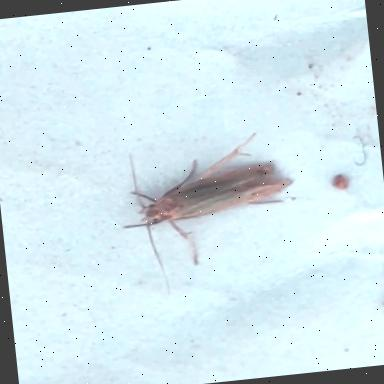pbw: (115, 128, 306, 300)
